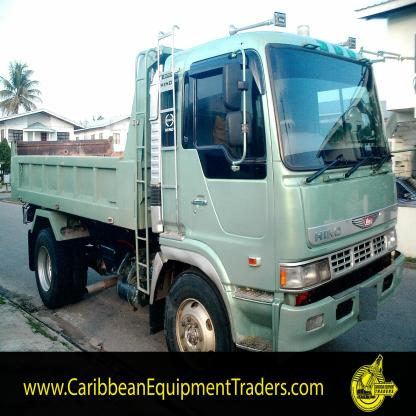dump_truck: (13, 16, 402, 356)
